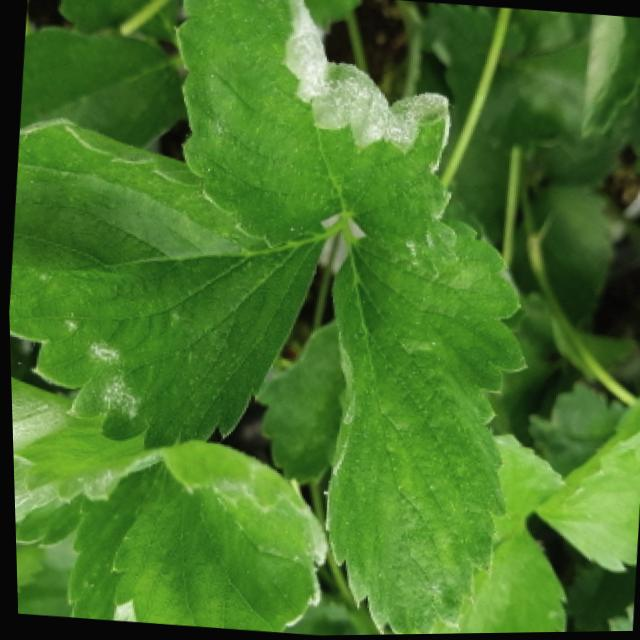Powdery Mildew Leaf: (7, 114, 329, 452), (320, 218, 529, 636), (174, 0, 455, 277), (107, 440, 325, 633), (9, 376, 155, 547), (61, 466, 152, 622)
